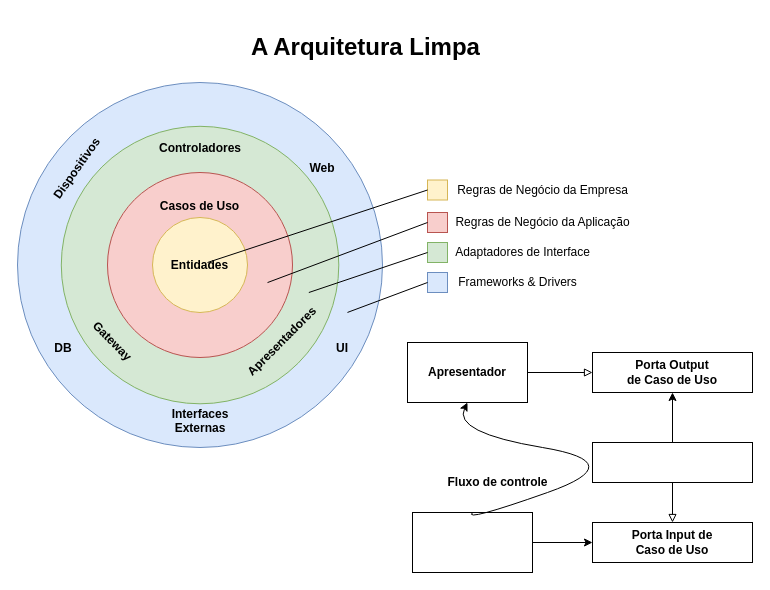
The diagram is 770 pixels wide and 590 high, and some of its shapes have lost their labels. The centre of each missing label's shape, as x and y in pixels:
"Controlador" belongs at point 472,542.
"Interação de Caso de Uso" belongs at point 672,462.
